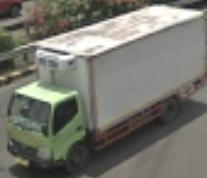truck: (4, 77, 94, 178)
